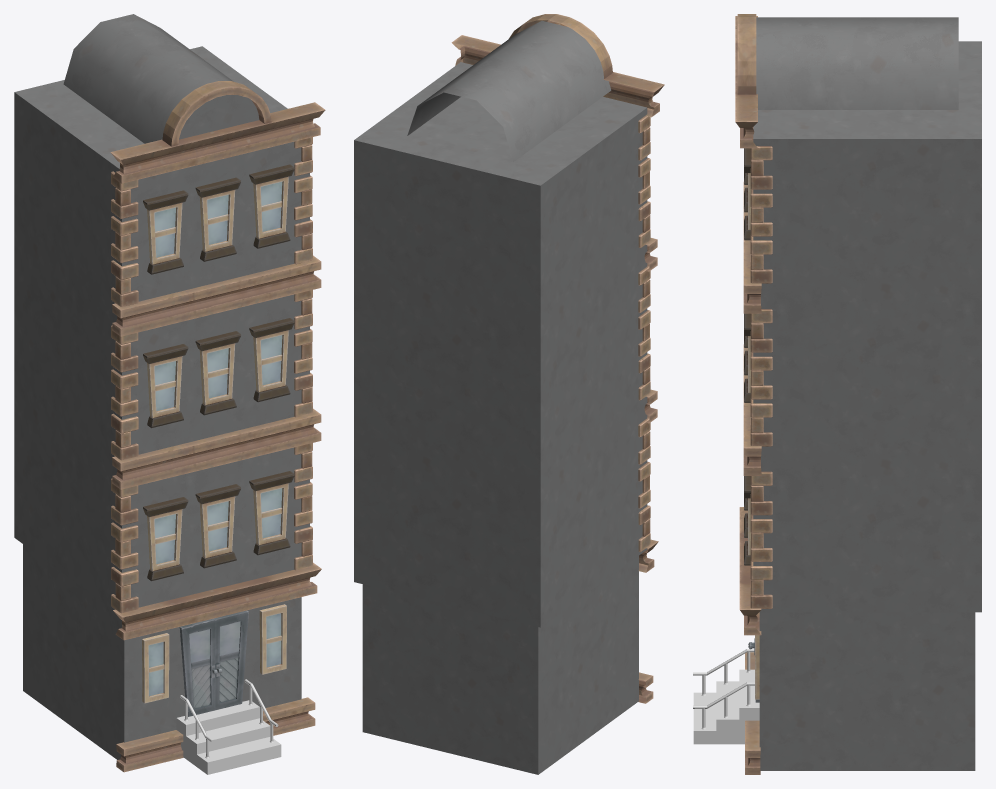
File: Ev_Tallbuilding_5.fbx
The picture shows the model from 3 angles, left to right: view 1: azimuth 30°, elevation 25°; view 2: azimuth 150°, elevation 25°; view 3: azimuth 270°, elevation 25°; orthographic projection. The views are drawn at different scales.
Visible parts, largest first — view 1: Object068, Cylinder045, P_Frame_092, P_Frame_091, P_Frame_090, P_Frame_089, P_Doubledoor_006, Box881, P_Frame_088, Box886, Box884, Box882 (+15 smaller); view 2: Object068, Cylinder045, P_Frame_092, Box884, Box882, Box886, P_Frameupper_011; view 3: Object068, Cylinder045, Box881, Box887, Box885, Box883, P_Frameupper_011, P_Frame_089, P_Frame_092, P_Frame_091, P_Frame_090, P_Frame_088 (+1 smaller).
Boxes of the visible parts, <box> form: Object068: <box>14,46,309,759</box>; Cylinder045: <box>63,14,259,143</box>; P_Frame_092: <box>110,102,325,183</box>; P_Frame_091: <box>112,255,321,336</box>; P_Frame_090: <box>112,408,321,489</box>; P_Frame_089: <box>113,562,321,640</box>; P_Doubledoor_006: <box>179,610,248,716</box>; Box881: <box>176,700,281,774</box>; P_Frame_088: <box>116,697,315,772</box>; Box886: <box>111,171,138,306</box>; Box884: <box>111,325,138,460</box>; Box882: <box>111,478,138,613</box>; Object068: <box>354,62,647,774</box>; Cylinder045: <box>407,20,611,161</box>; P_Frame_092: <box>451,35,664,117</box>; Box884: <box>638,265,650,400</box>; Box882: <box>638,417,650,552</box>; Box886: <box>638,116,650,248</box>; P_Frameupper_011: <box>509,14,612,78</box>; Object068: <box>753,41,981,770</box>; Cylinder045: <box>756,17,958,109</box>; Box881: <box>693,669,759,744</box>; Box887: <box>750,146,772,283</box>; Box885: <box>750,309,772,446</box>; Box883: <box>750,471,772,608</box>; P_Frameupper_011: <box>737,14,756,94</box>; P_Frame_089: <box>739,507,761,635</box>; P_Frame_092: <box>735,16,757,148</box>; P_Frame_091: <box>743,182,761,313</box>; P_Frame_090: <box>743,344,761,475</box>; P_Frame_088: <box>745,652,760,774</box>.
Size of the model in its own units: 31.68 by 98 by 36.42.
